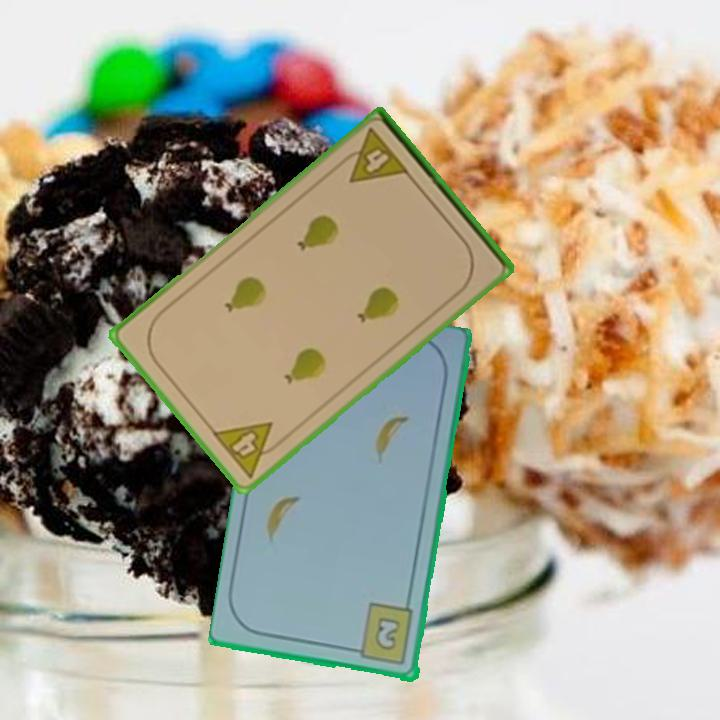2b: (348, 601, 417, 668)
4p: (208, 418, 289, 481), (334, 125, 412, 187)
